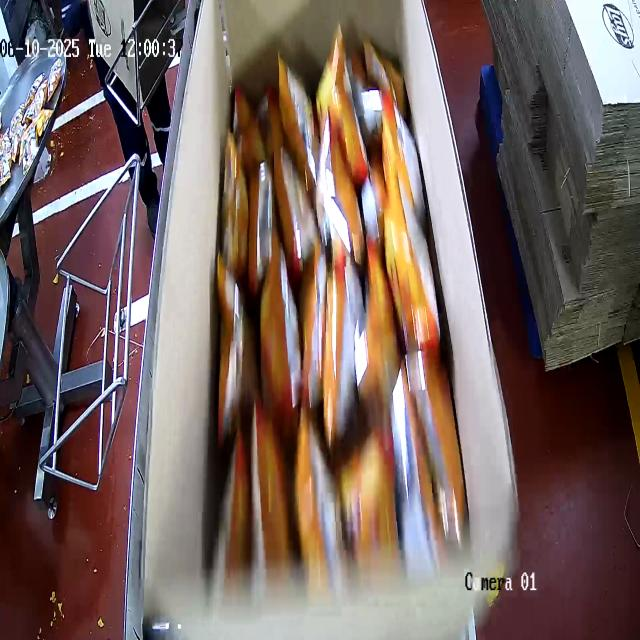FRENCH_CHEESE: (215, 39, 466, 542)
